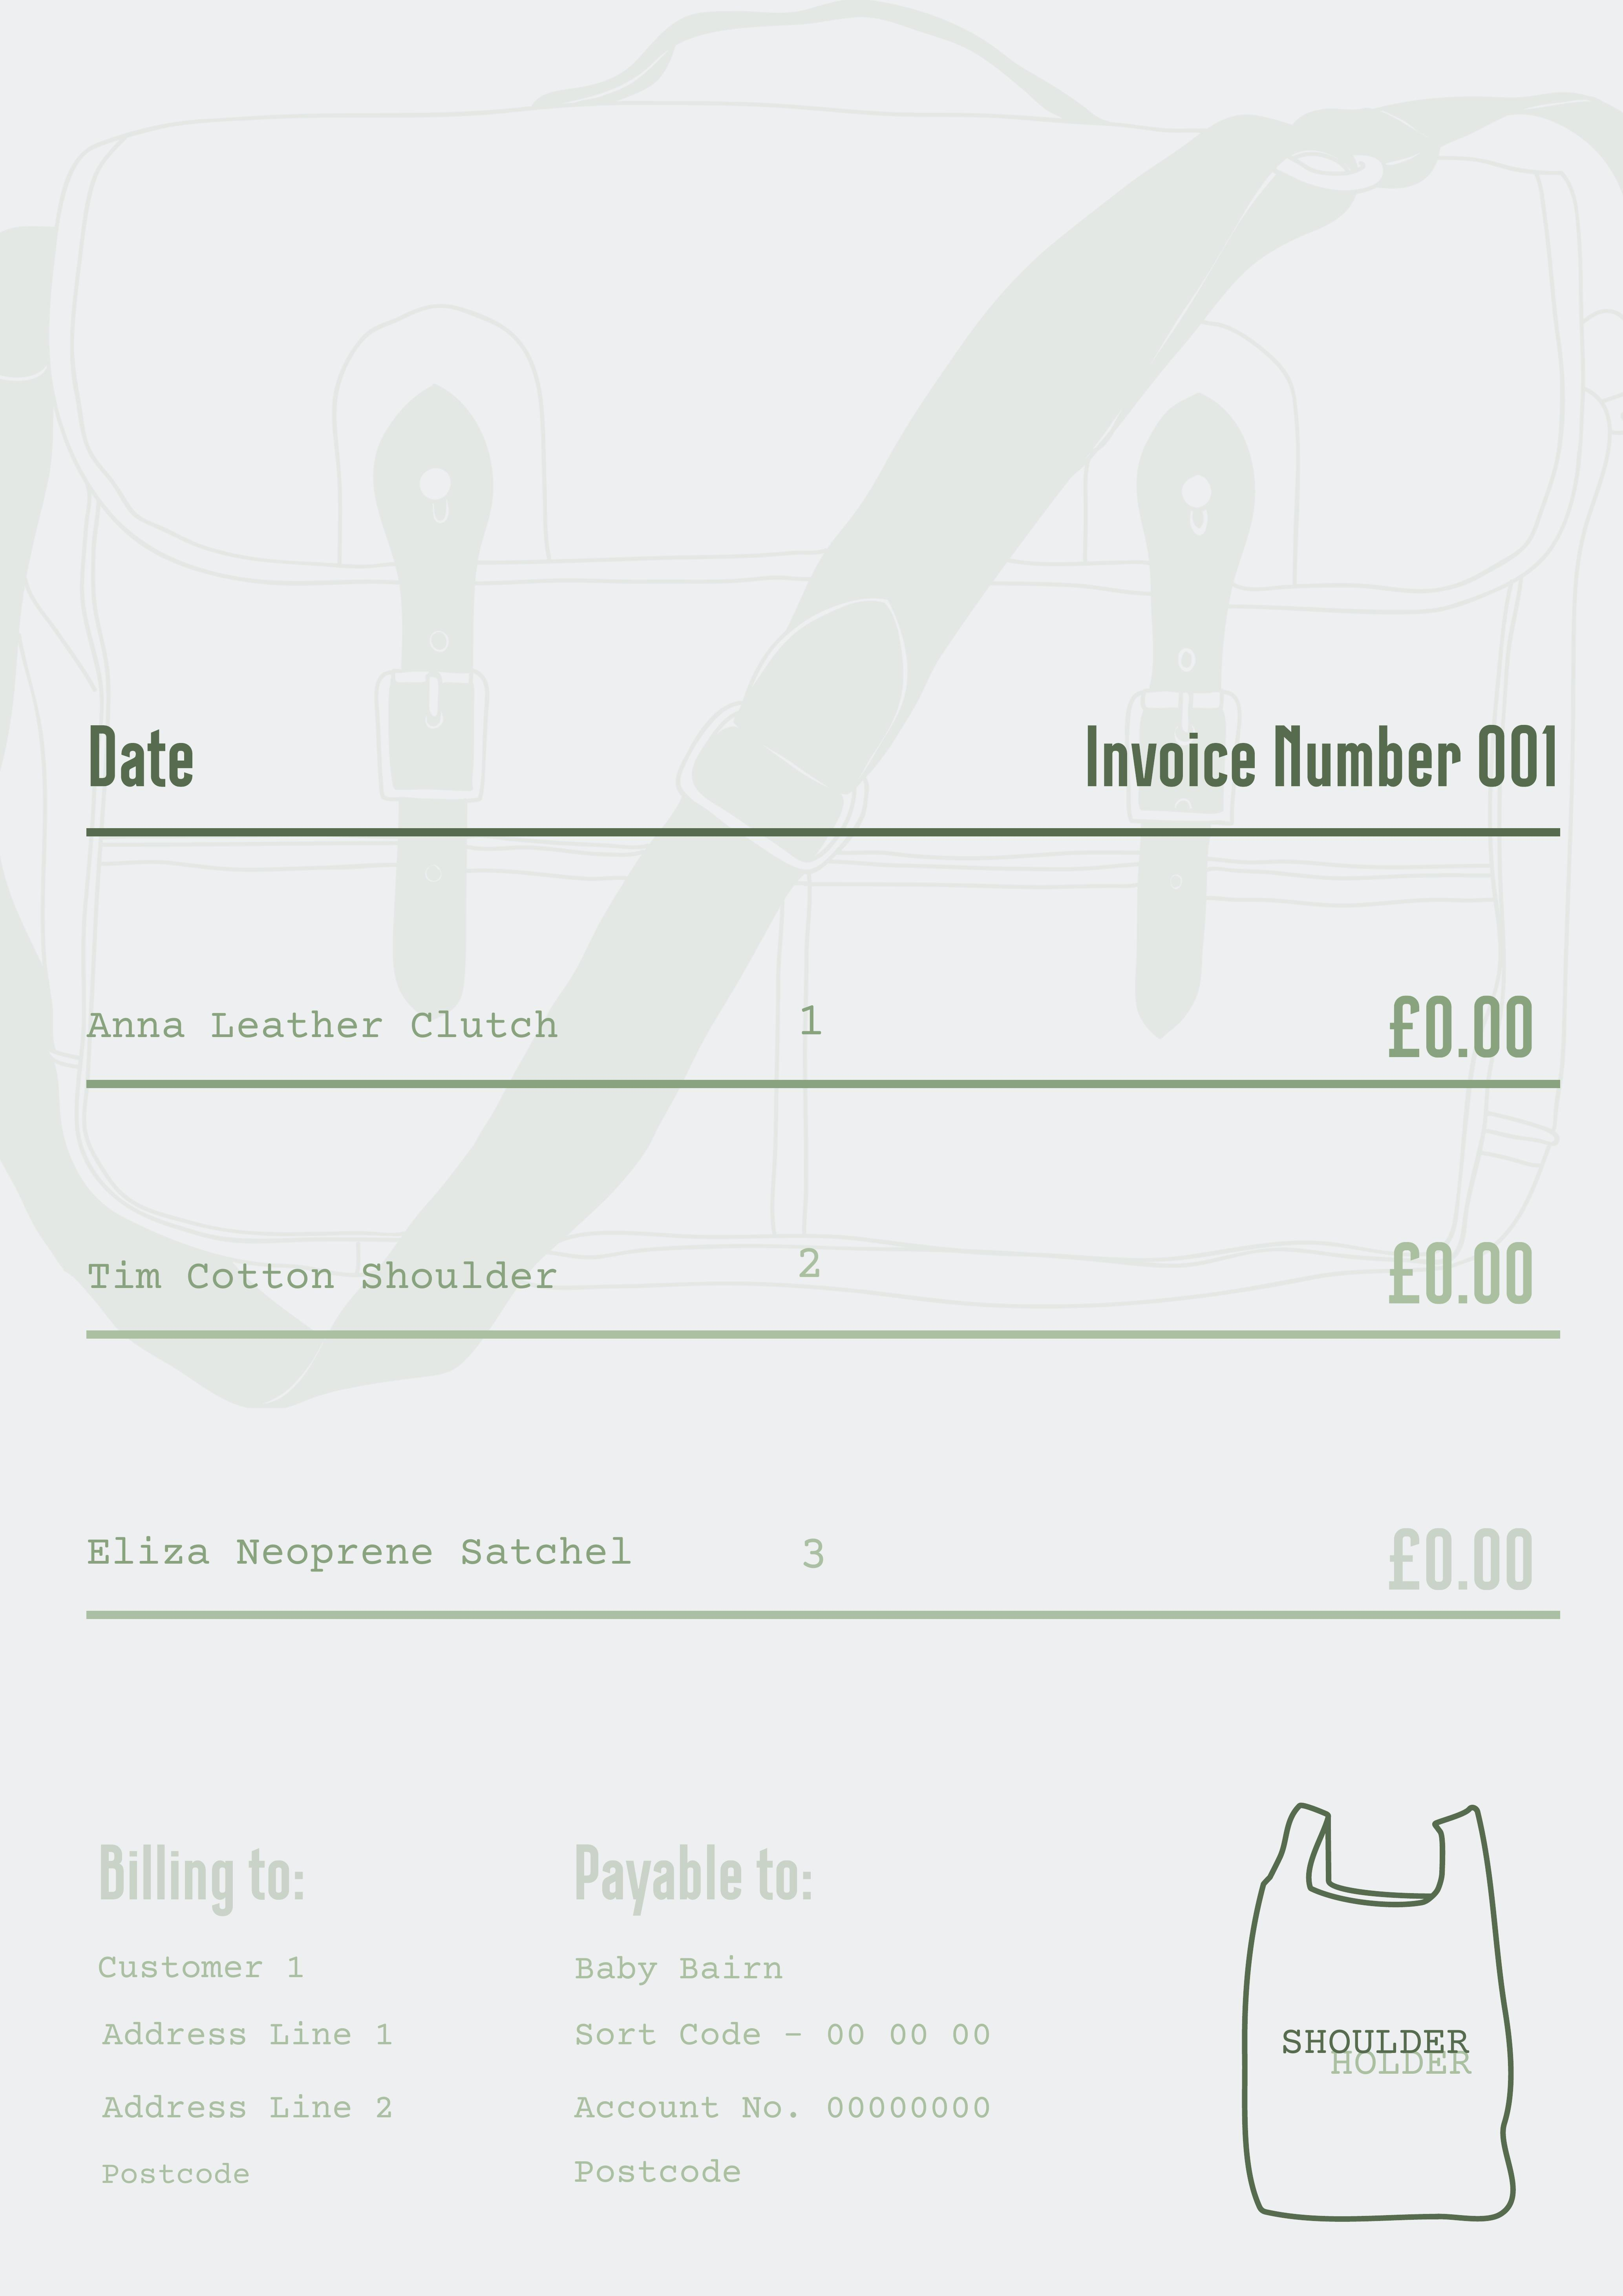ROI: (48, 900, 1575, 1604), (539, 1822, 1022, 2241), (58, 684, 1577, 815), (72, 1812, 426, 2239)
